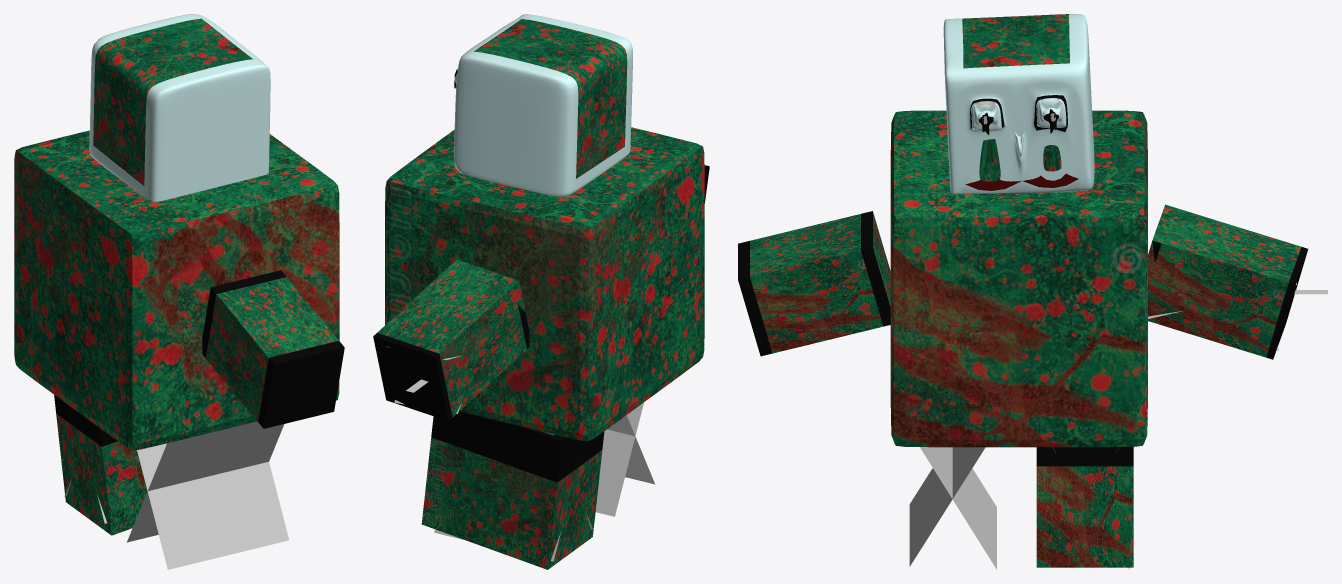
3 views of the same model, side by side, from view 1: azimuth 30°, elevation 25°; view 2: azimuth 150°, elevation 25°; view 3: azimuth 270°, elevation 25° (orthographic). The views are drawn at different scales.
Visible parts, largest first — view 1: Cube_Cube.001, Cube.001_Cube.002, Cube.005_Cube.007, RectLL1.001_Plane.011, Cube.003_Cube.004, RectRL1_Plane.009; view 2: Cube_Cube.001, Cube.001_Cube.002, Cube.003_Cube.004, Cube.004_Cube.005, RectRL1_Plane.009, RectLL1.001_Plane.011; view 3: Cube_Cube.001, Cube.001_Cube.002, Cube.004_Cube.005, Cube.005_Cube.007, Cube.003_Cube.004, RectRL1_Plane.009, RectLL1.001_Plane.011.
Boxes of the visible parts, x1,y1,x2,y2 form: Cube_Cube.001: (14, 130, 339, 449); Cube.001_Cube.002: (89, 14, 270, 201); Cube.005_Cube.007: (202, 270, 344, 428); RectLL1.001_Plane.011: (137, 443, 288, 569); Cube.003_Cube.004: (54, 395, 147, 535); RectRL1_Plane.009: (127, 421, 284, 542); Cube_Cube.001: (385, 127, 704, 440); Cube.001_Cube.002: (454, 14, 632, 196); Cube.003_Cube.004: (421, 411, 604, 569); Cube.004_Cube.005: (373, 259, 529, 421); RectRL1_Plane.009: (595, 402, 643, 516); RectLL1.001_Plane.011: (607, 415, 655, 484); Cube_Cube.001: (890, 110, 1147, 447); Cube.001_Cube.002: (943, 14, 1094, 193); Cube.004_Cube.005: (1148, 204, 1308, 359); Cube.005_Cube.007: (738, 211, 890, 356); Cube.003_Cube.004: (1036, 447, 1133, 567); RectRL1_Plane.009: (920, 447, 996, 569); RectLL1.001_Plane.011: (909, 447, 985, 566).
Size of what is drawn, in the model's own units: 1.46 by 3.18 by 3.34.
Materials: 14 (1 with a texture image).
